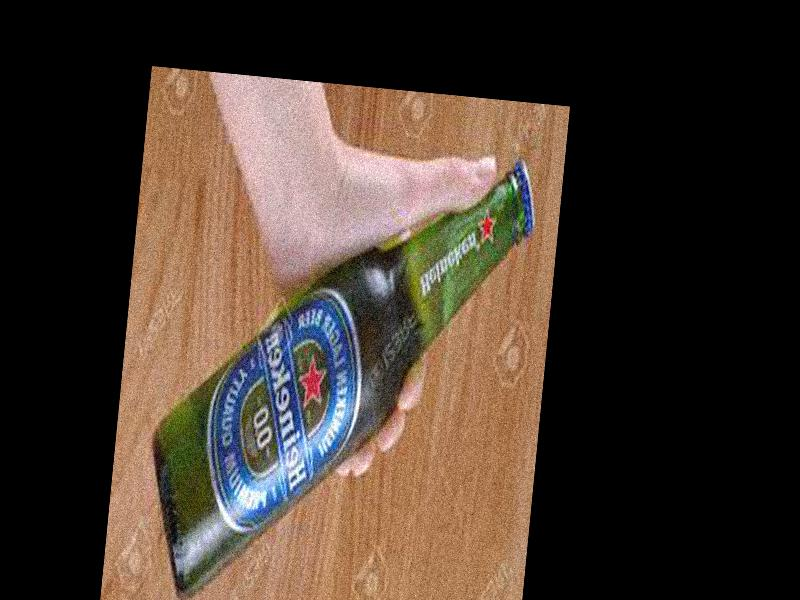Beer: (135, 129, 541, 600)
